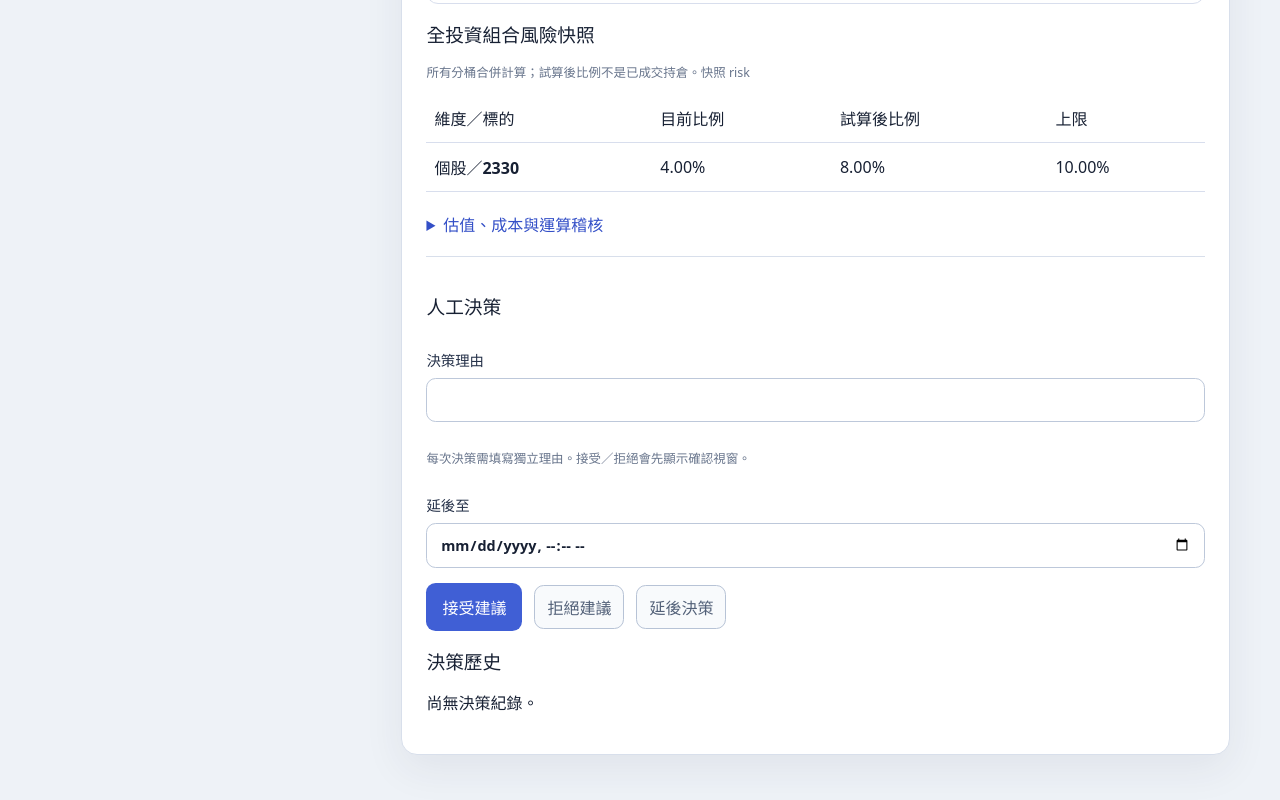
Test: Recommendation workspace › preserves a saved decision when its follow-up read fails
(page scrolled)
Type "已核對風險" into the field labelled "決策理由".
click(816, 400); type("已核對風險")  # box [426,378,1205,422]
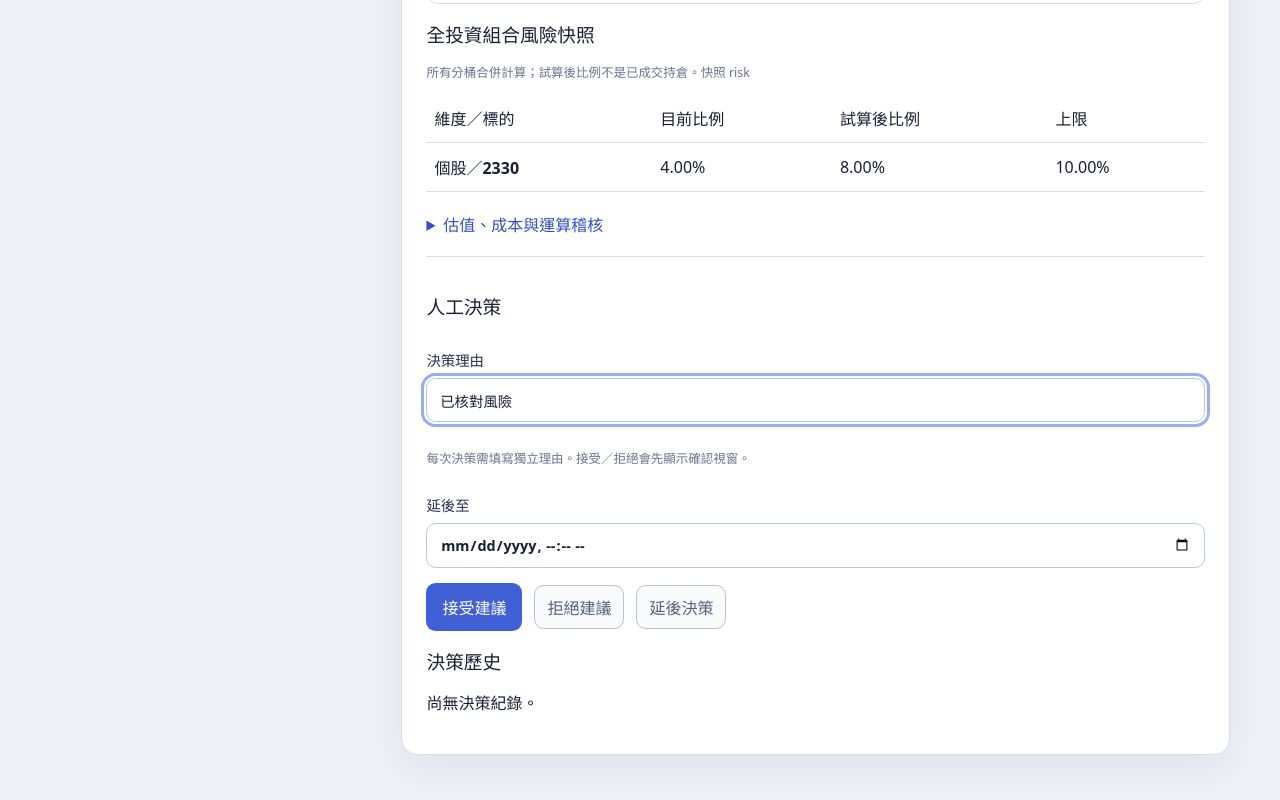
Click the button "接受建議".
click(474, 607)  # box [426,583,522,631]
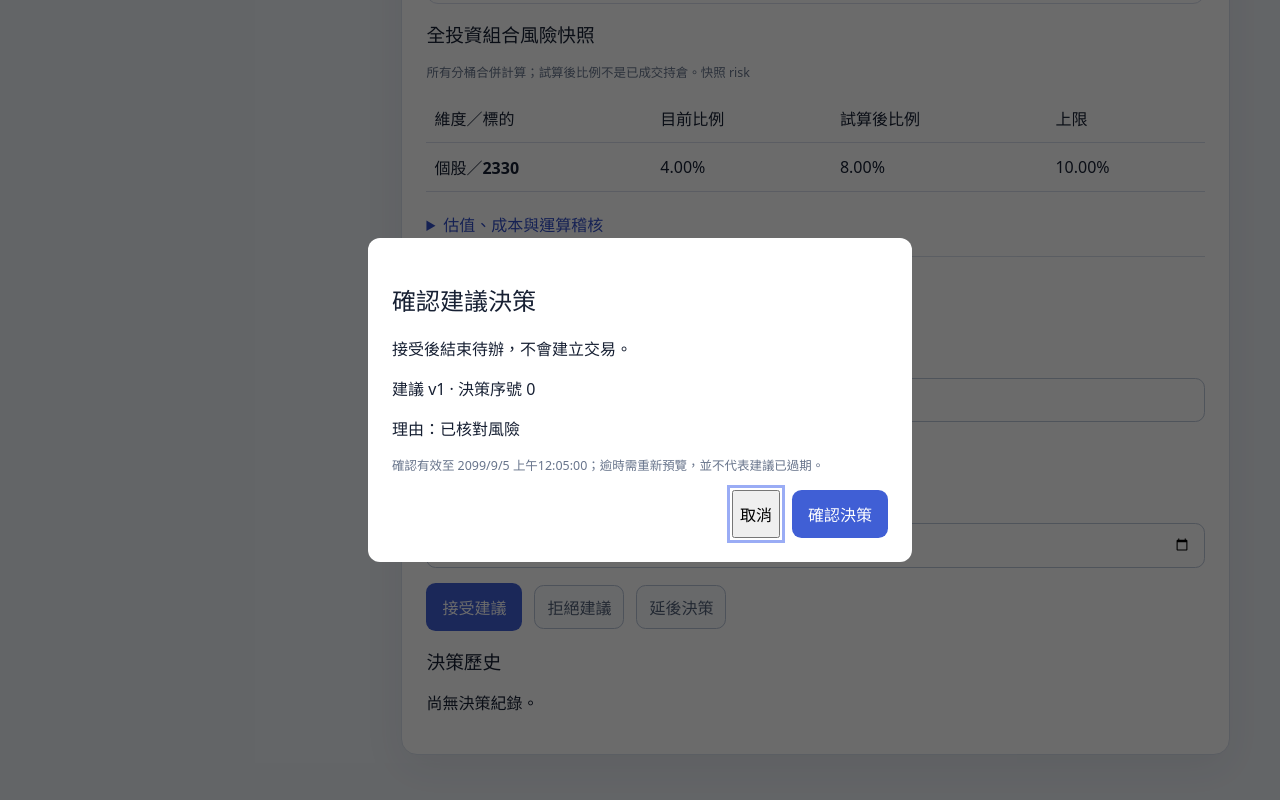
Click the button "確認決策".
click(840, 514)  # box [792,490,888,538]
(page scrolled)
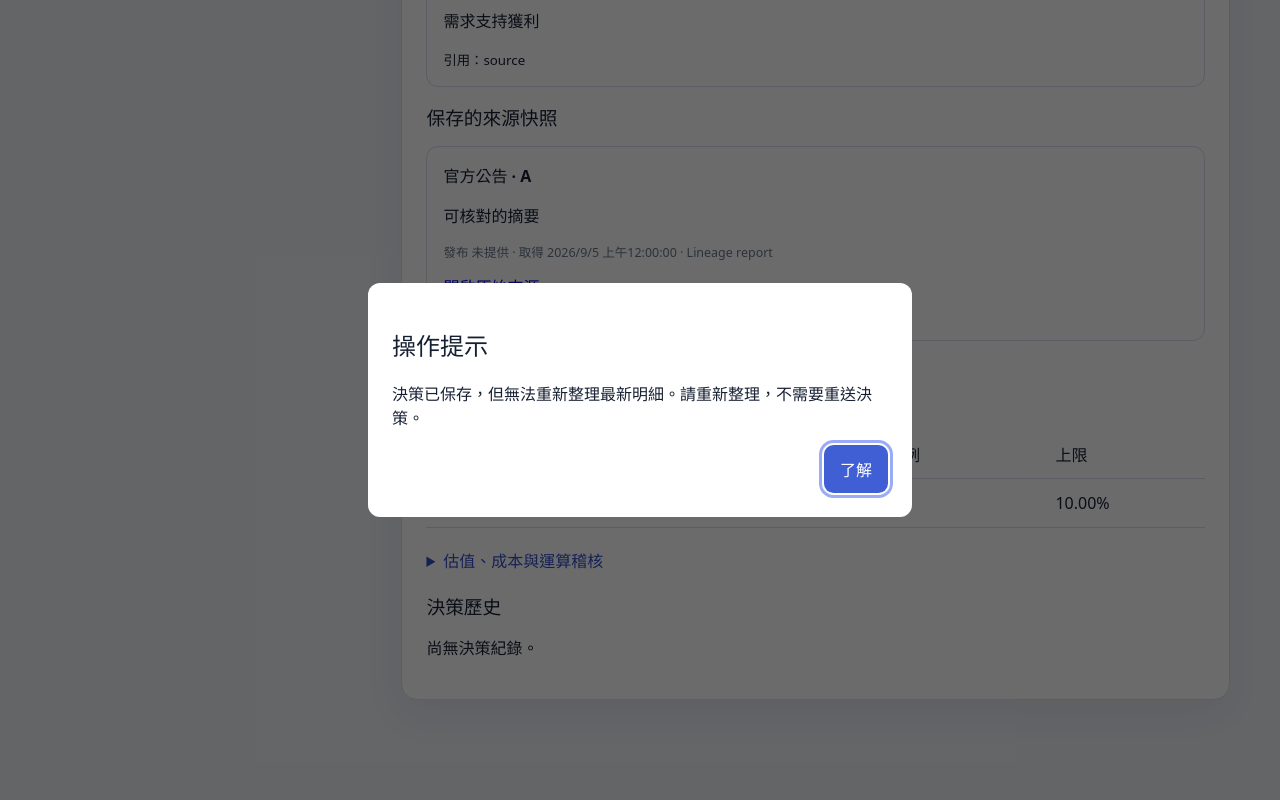
Expected: the dialog shows "決策已保存，但無法重新整理", [392,383,872,429]
Expected: the button "接受建議" is gone
